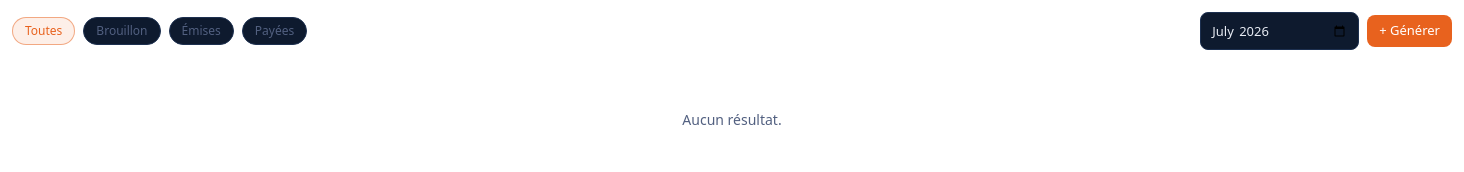
Scenario: BillingList › monthly billing generation › shows an error message and does not refetch when generation fails
Click the button "+ Générer" at (1410, 31), box [1367,15,1452,47]
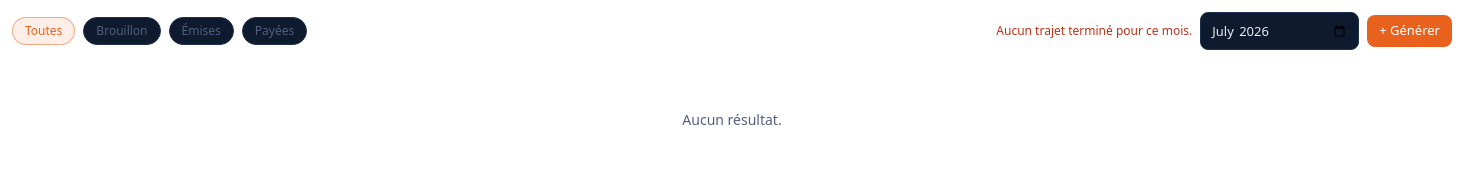
Now the text "Aucun trajet terminé pour ce mois." is shown, box [996,22,1192,40]
